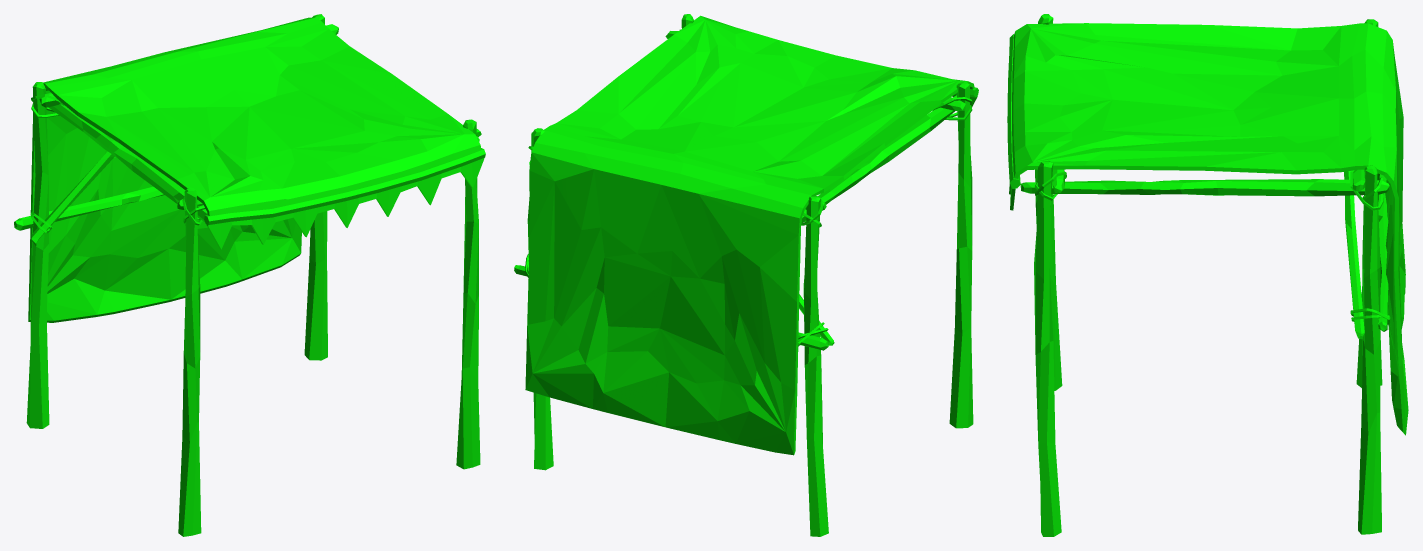
Rendered from SM_Tent_Tailor_Fantasy.fbx.
The picture shows the model from 3 angles, left to right: view 1: azimuth 30°, elevation 25°; view 2: azimuth 150°, elevation 25°; view 3: azimuth 270°, elevation 25°; orthographic projection. The views are drawn at different scales.
Visible parts, largest first — view 1: tent-tailor-fantasy; view 2: tent-tailor-fantasy; view 3: tent-tailor-fantasy.
Boxes of the visible parts, box(x1,y1,x2,y2) form: tent-tailor-fantasy: box(14, 14, 485, 536); tent-tailor-fantasy: box(514, 14, 978, 536); tent-tailor-fantasy: box(1007, 14, 1408, 536).
Bounding box in the file's own units: 2.71 × 2.81 × 2.75.
